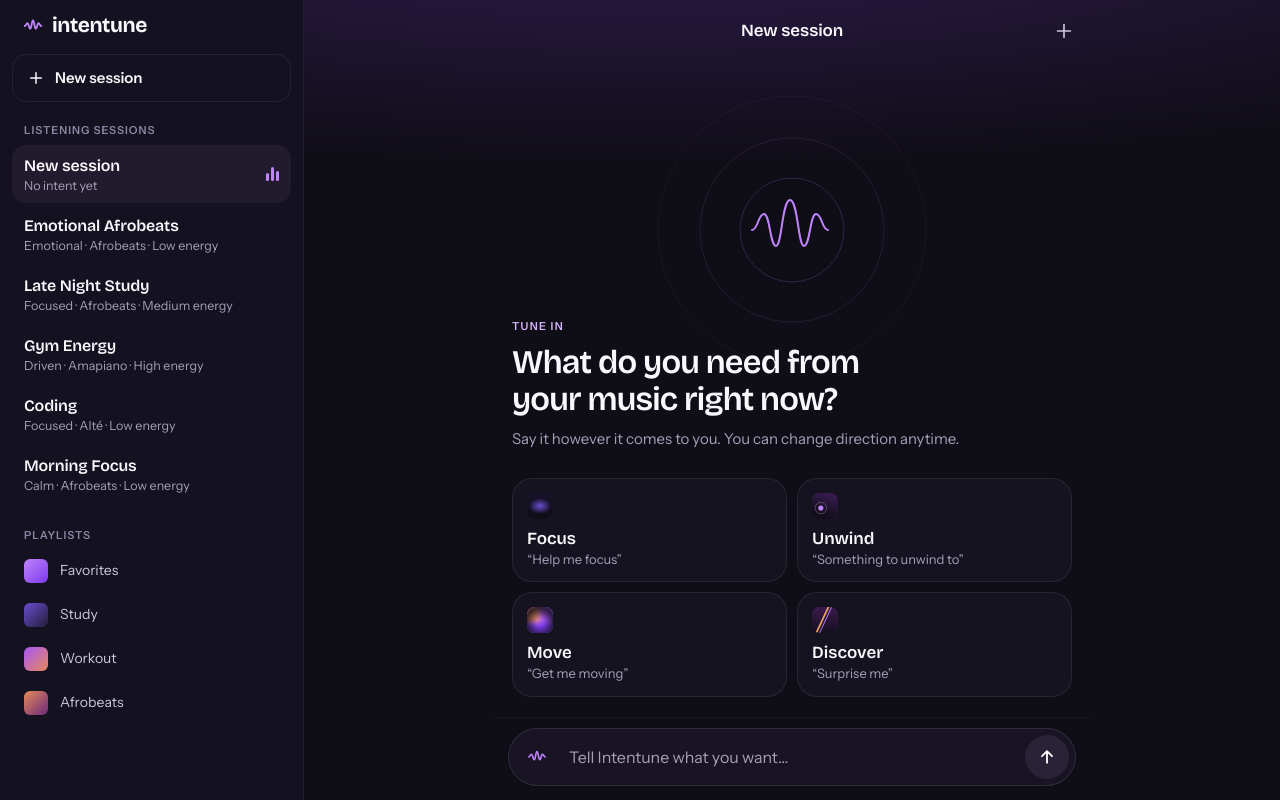
Test: moving between sessions › shows the sessions as a standing rail on a wide screen
The width and height of the screenshot is (1280, 800).
Click the button "Coding Focused · Alté · Low energy" at (51, 405), box [12, 385, 291, 443]
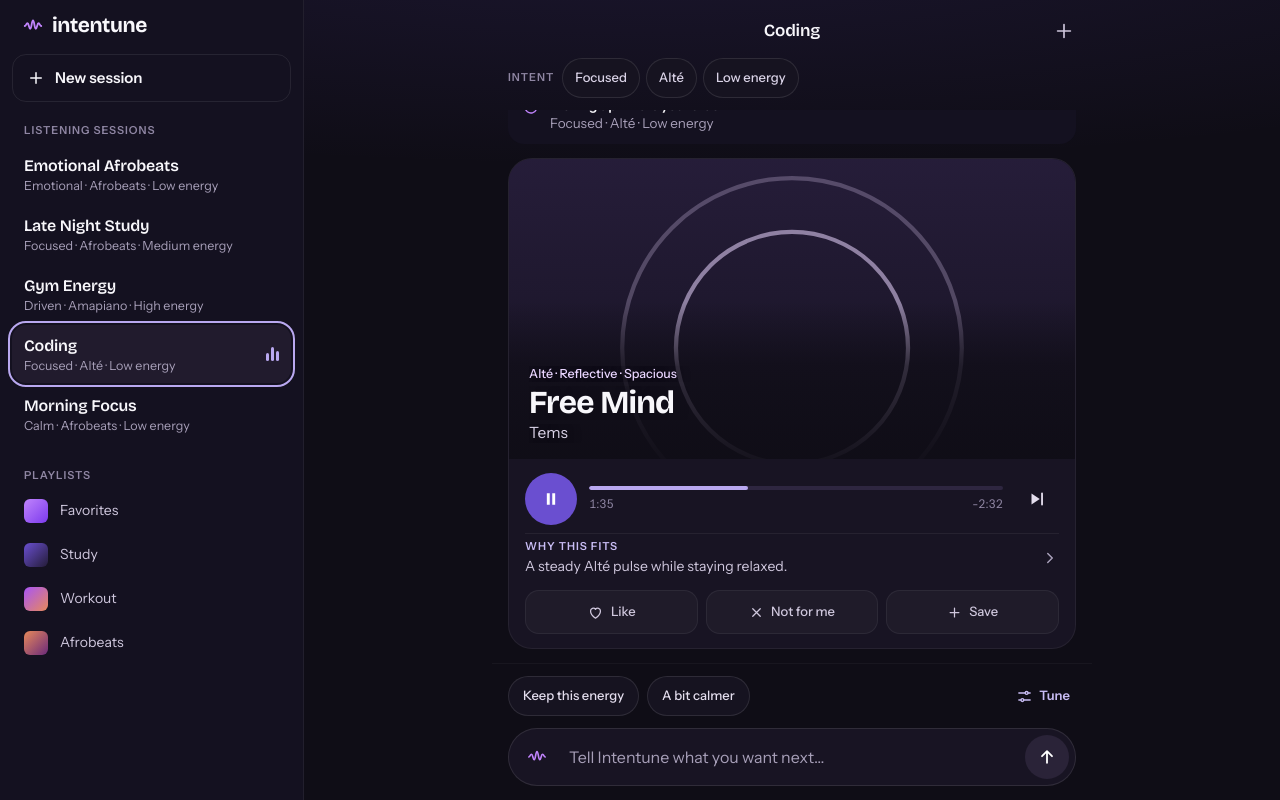
Check: the heading "Coding" is shown, box [764, 20, 820, 42]
